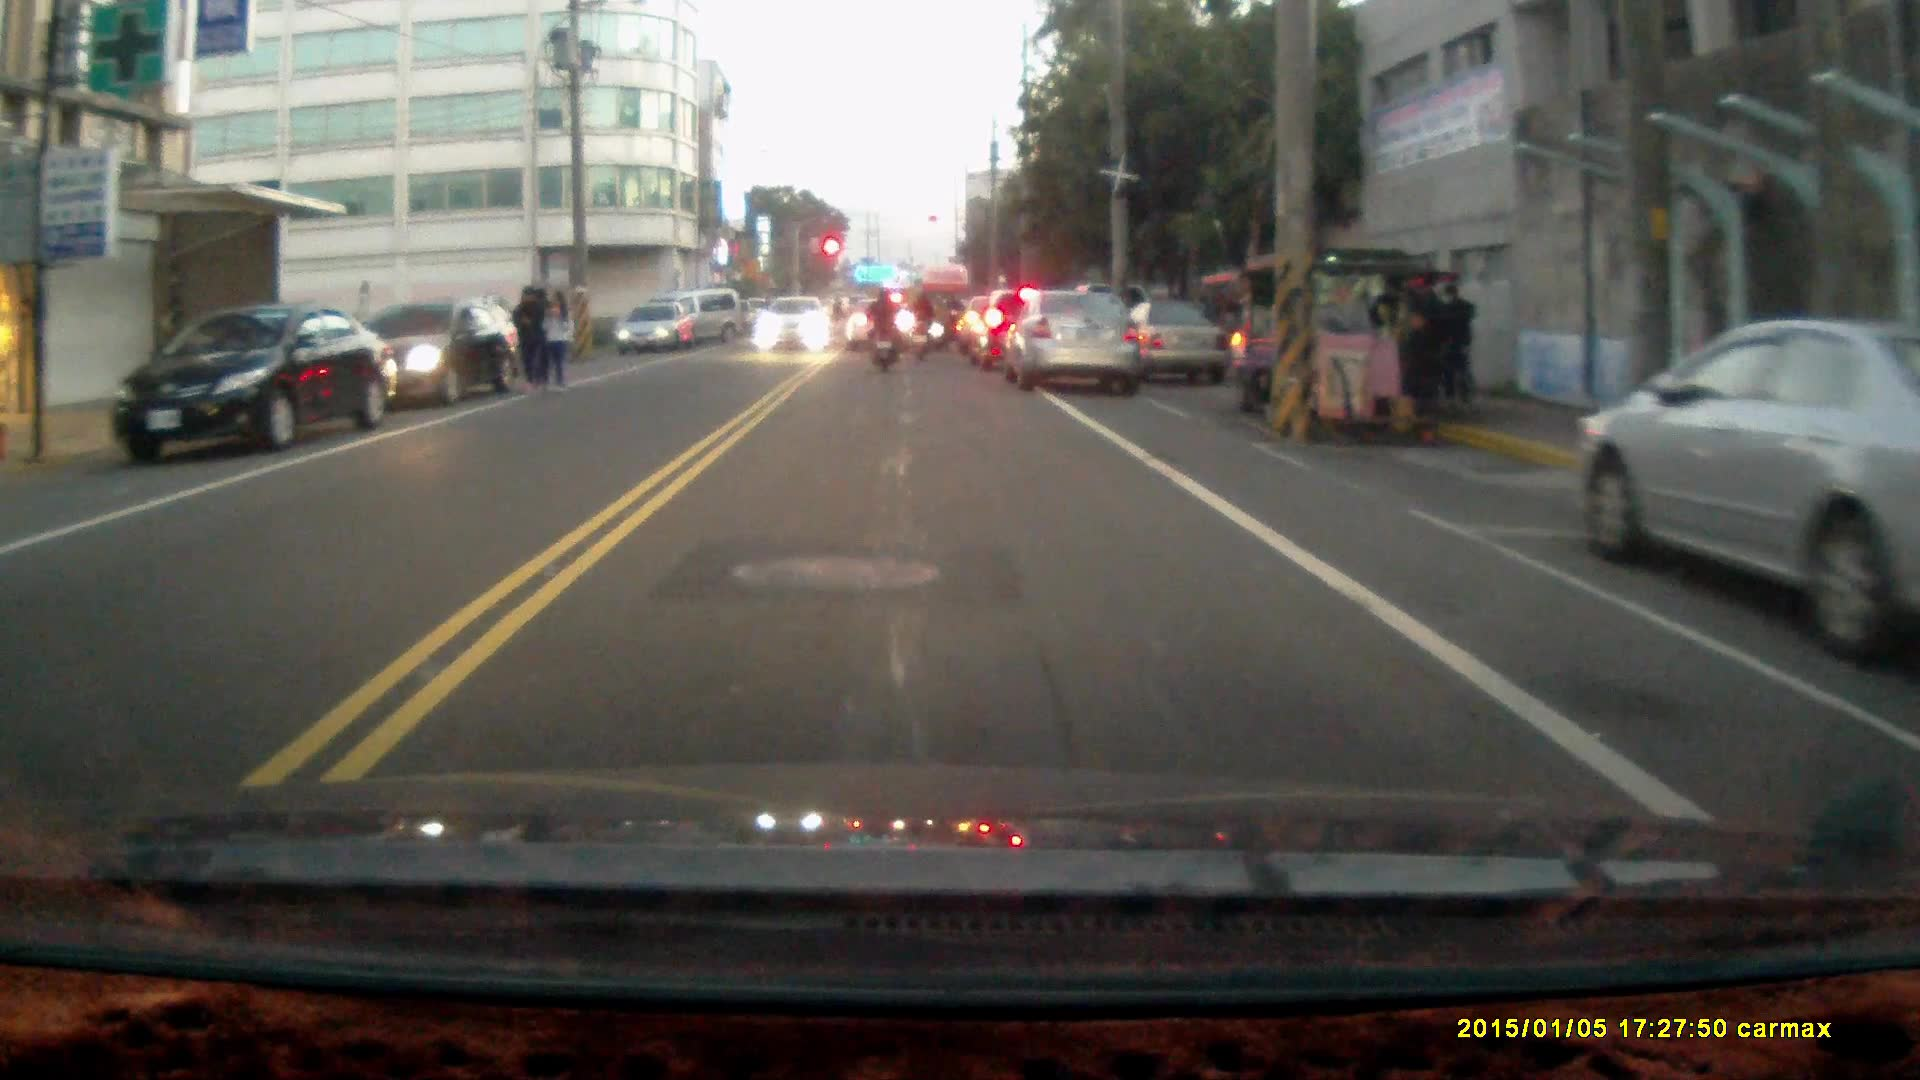pedestrian: (1433, 278, 1479, 412), (510, 280, 550, 394), (544, 284, 572, 393)
rider: (865, 283, 901, 374), (906, 286, 937, 363)
vehicle: (1570, 322, 1920, 657), (1223, 249, 1465, 435), (116, 306, 392, 462), (360, 298, 524, 412), (1009, 290, 1149, 398), (759, 296, 838, 358), (619, 300, 702, 353), (848, 295, 923, 354)
